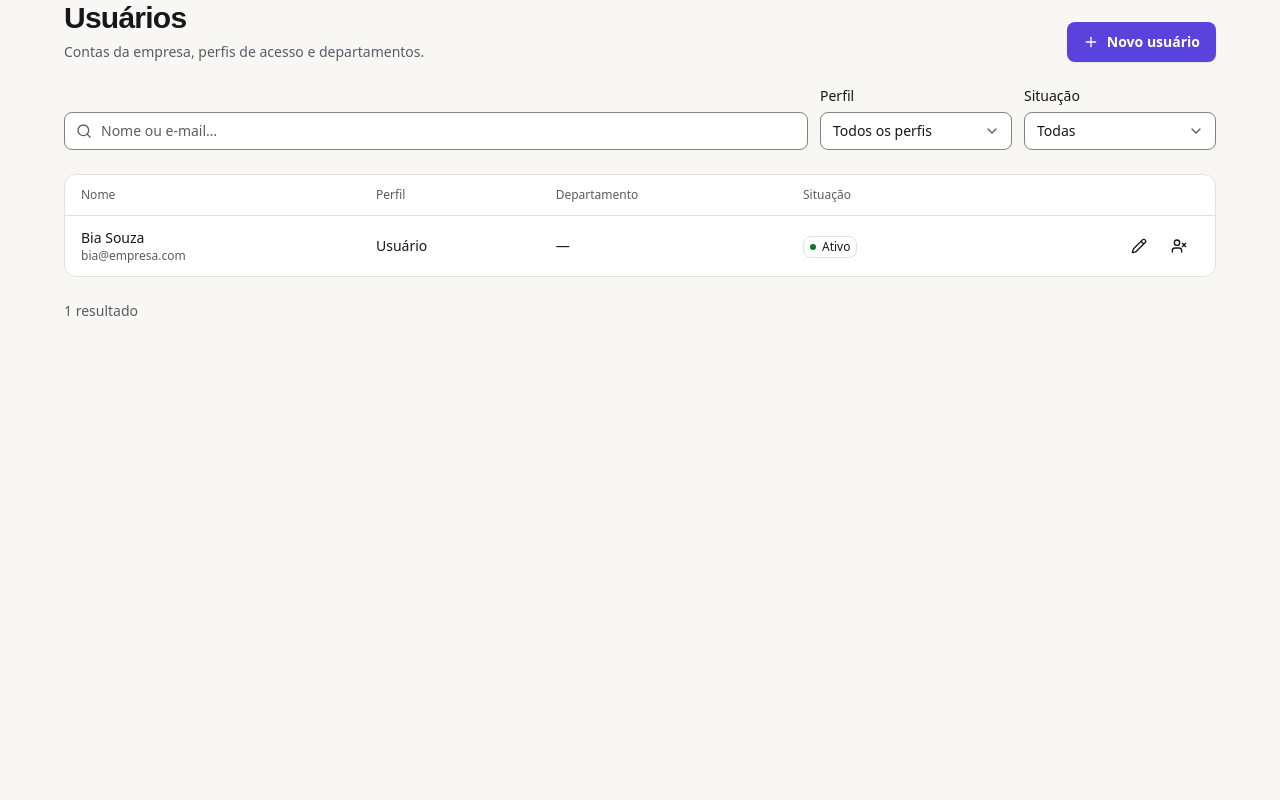
Test case: UsersPage › desativa após confirmação
This screenshot has width=1280, height=800.
Click the 2nd button named "Desativar Bia Souza" at x=1179, y=246, box x1=1159 y1=228 x2=1199 y2=264
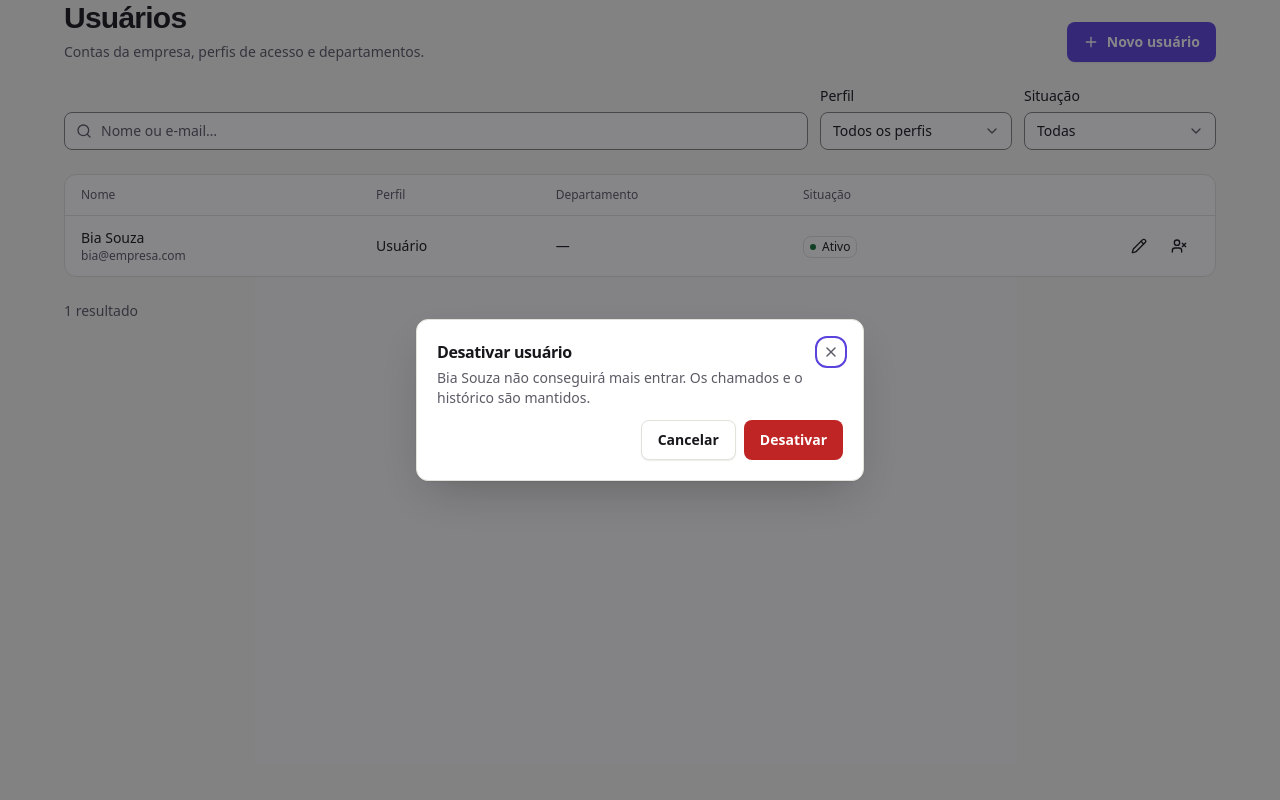
Click the button "Desativar" at x=793, y=440, box x1=744 y1=420 x2=843 y2=460
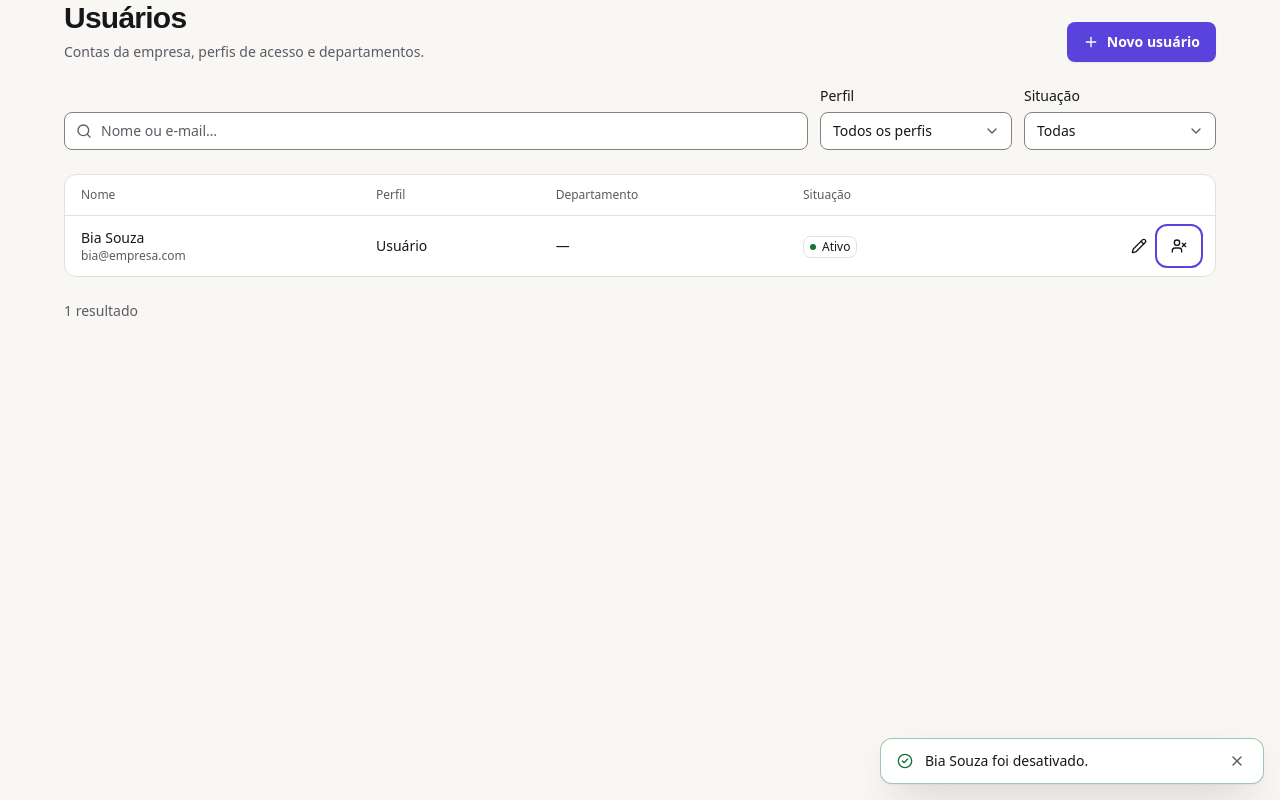
Expected: the text "Bia Souza foi desativado." is shown, x1=925 y1=751 x2=1088 y2=770
